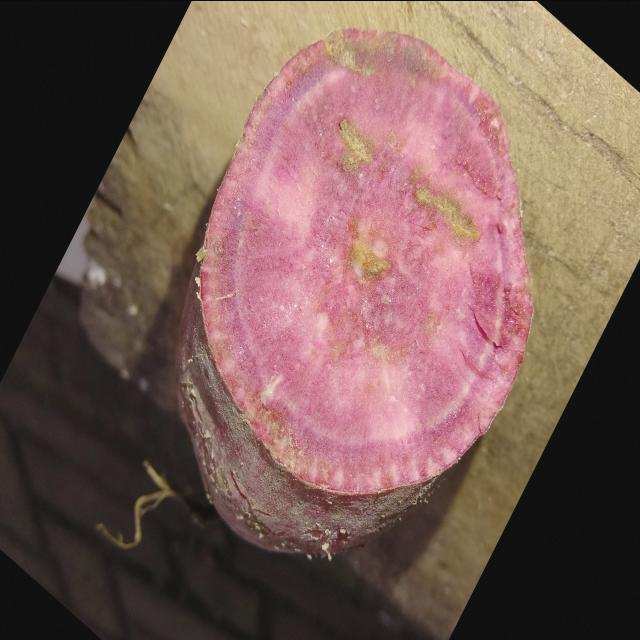Sick Sweet Potato_Tuber Rot: (201, 28, 531, 492)
